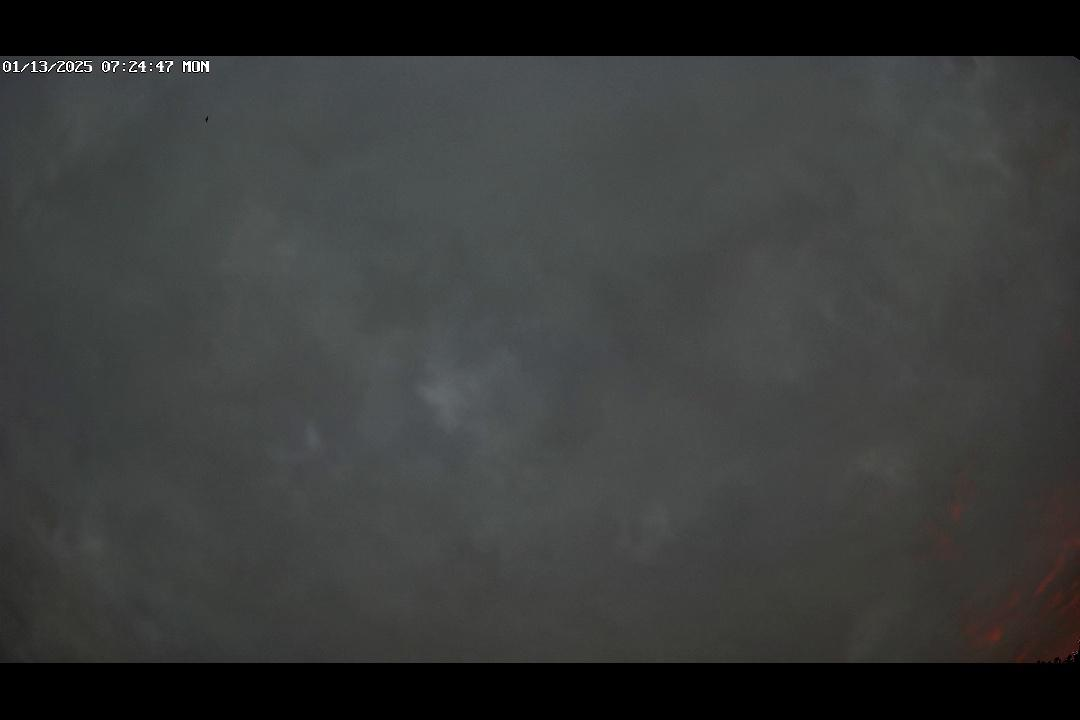WildLife: (198, 114, 220, 127)
